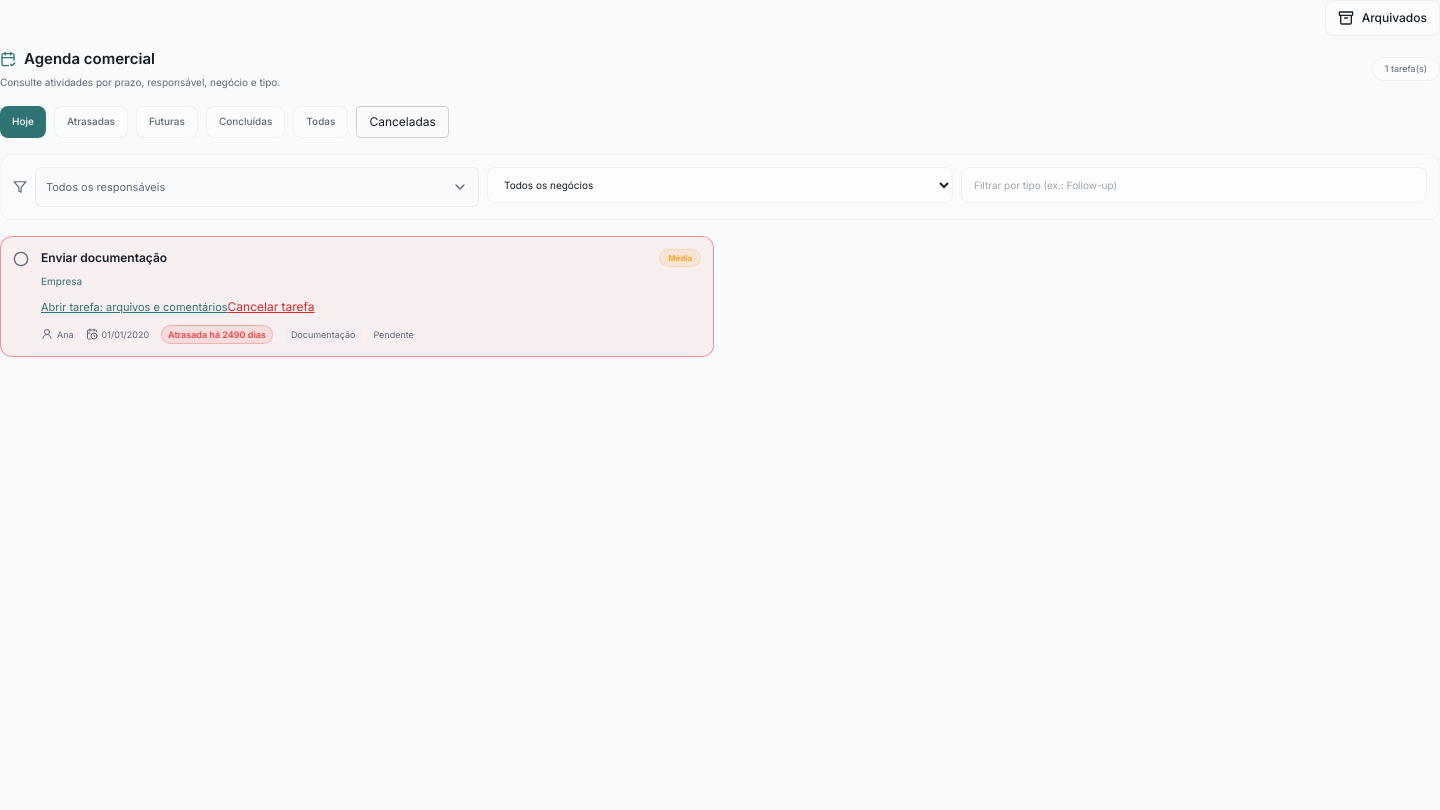
Test: conclusão atrasada nas atividades comerciais › solicita justificativa antes da conclusão na agenda
The image size is (1440, 810).
Click the button named "Concluir tarefa" at (21, 258), box x1=13 y1=250 x2=29 y2=266
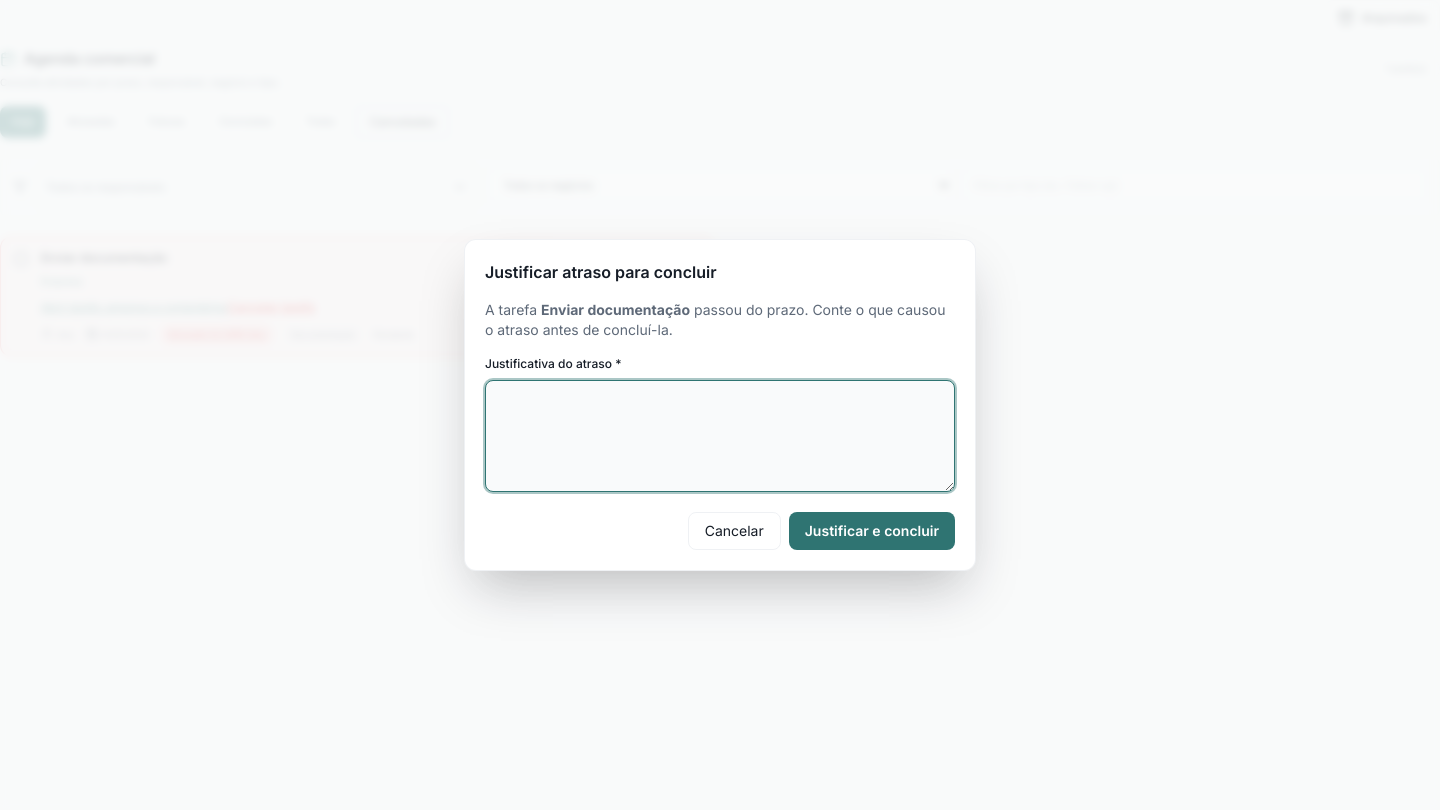
Now the dialog shows "Justificar atraso", box x1=485 y1=262 x2=716 y2=282
Type "Aguardando documentos." into the text box labelled "Justificativa do atraso *" at (720, 436), box x1=485 y1=380 x2=955 y2=492
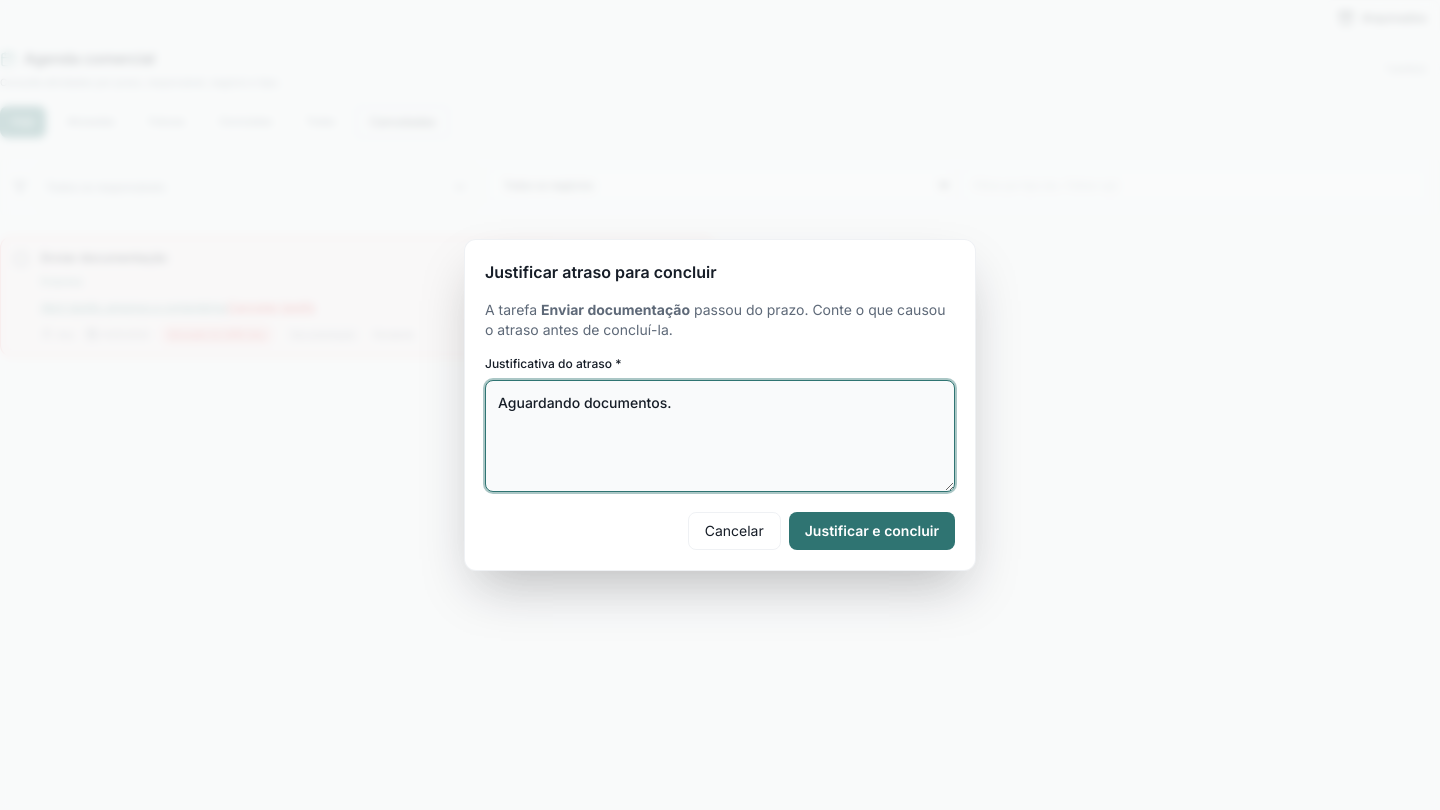
Click the button "Justificar e concluir" at (872, 531), box x1=789 y1=512 x2=955 y2=550
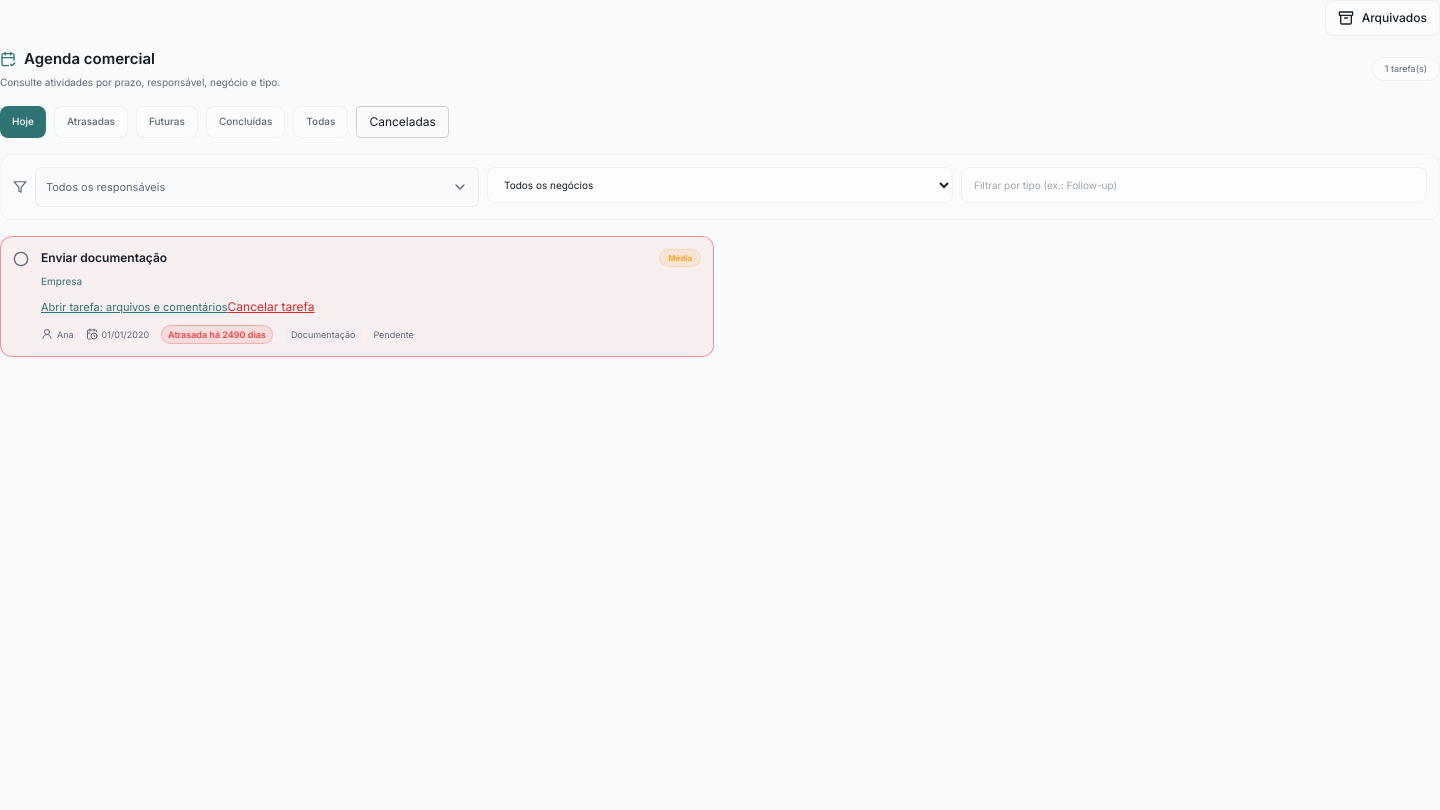
Now the dialog is gone
